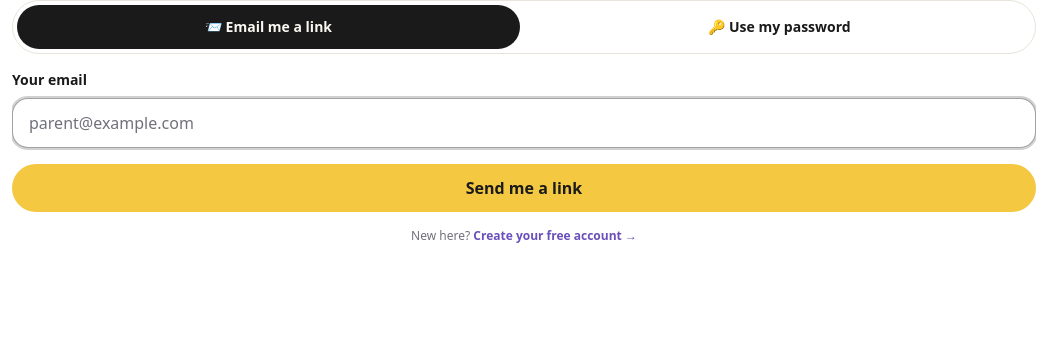
it: SignInForm › shows the password input when the password tab is selected
Click the tab "🔑 Use my password" at (780, 27), box [528, 5, 1031, 49]
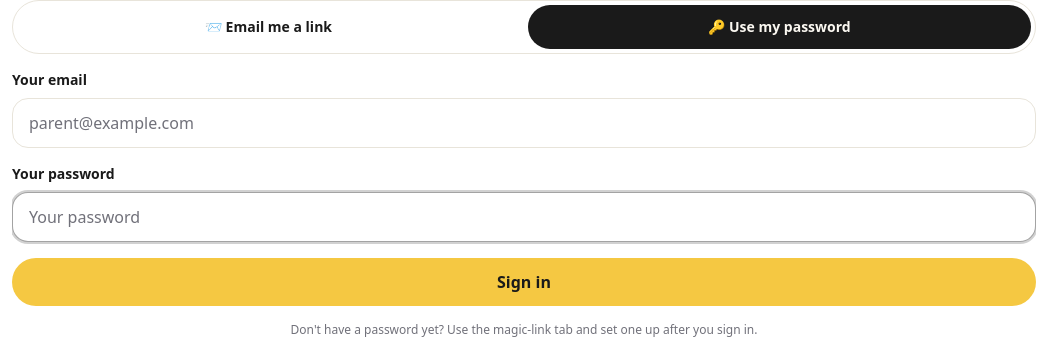
Check: the password field labelled "Your password" is shown, box [12, 192, 1036, 242]
